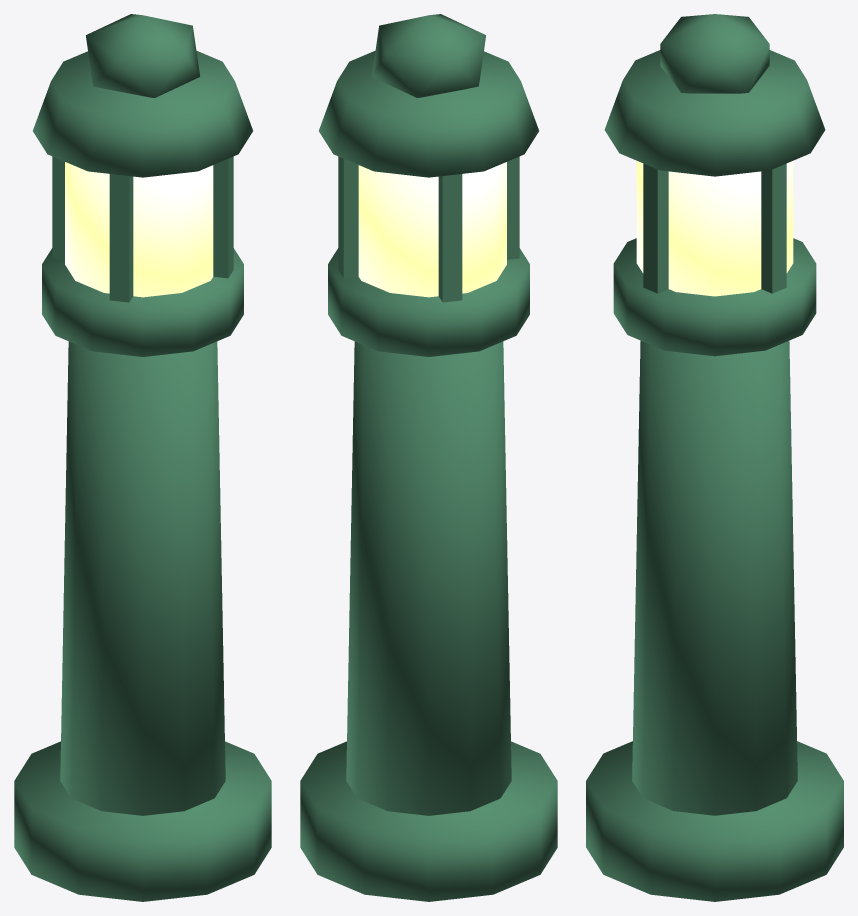
3 views of the same model, side by side, from view 1: azimuth 30°, elevation 25°; view 2: azimuth 150°, elevation 25°; view 3: azimuth 270°, elevation 25° (orthographic).
Visible parts, largest first — view 1: house_paint, festoon_glass; view 2: house_paint, festoon_glass; view 3: house_paint, festoon_glass.
Boxes of the visible parts, left/top/right/bottom form: house_paint: left=14, top=14, right=271, bottom=901; festoon_glass: left=65, top=162, right=213, bottom=297; house_paint: left=300, top=14, right=557, bottom=901; festoon_glass: left=358, top=162, right=506, bottom=297; house_paint: left=586, top=14, right=843, bottom=901; festoon_glass: left=636, top=161, right=793, bottom=296.
Size of the model in its own units: 0.28 by 0.999 by 0.28.
2 materials, 1 textured.
